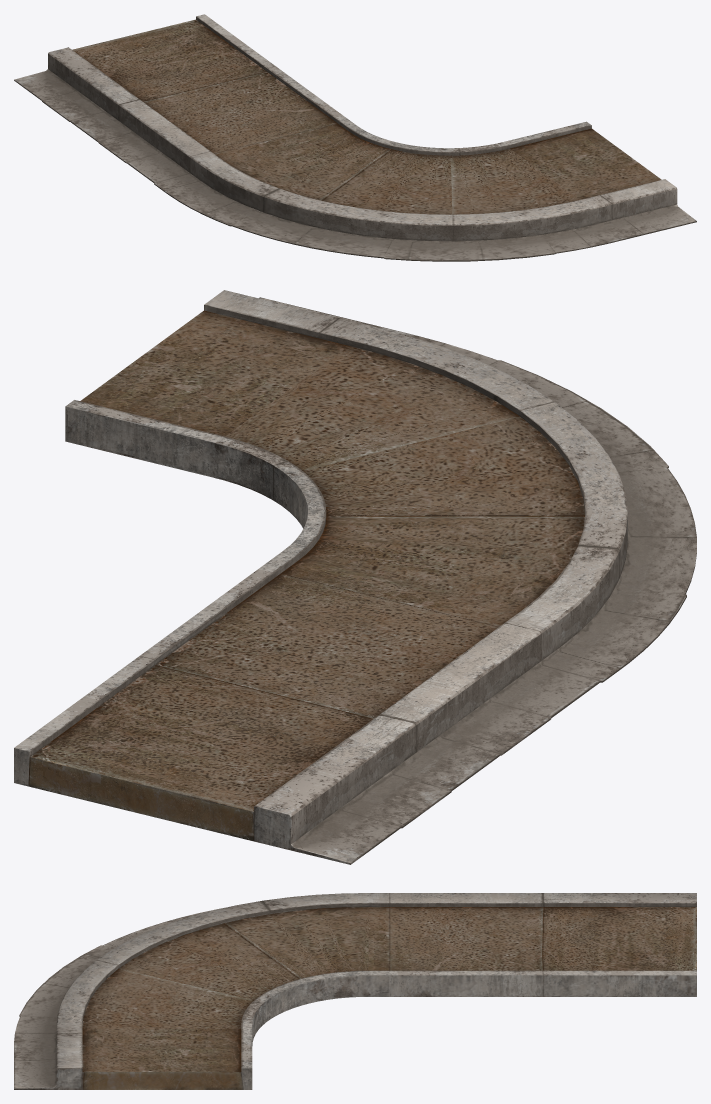
Rendered from SM_Sidewalk_07.fbx.
3 renders of one model, top to bottom at view 1: azimuth 30°, elevation 25°; view 2: azimuth 150°, elevation 25°; view 3: azimuth 270°, elevation 25°, orthographic. The views are drawn at different scales.
Visible parts, largest first — view 1: SM_Sidewalk_07_LOD0; view 2: SM_Sidewalk_07_LOD0; view 3: SM_Sidewalk_07_LOD0.
Boxes of the visible parts, x1,y1,x2,y2 form: SM_Sidewalk_07_LOD0: (14,14,696,261); SM_Sidewalk_07_LOD0: (14,290,696,864); SM_Sidewalk_07_LOD0: (14,893,696,1089).
Size of the model in its own units: 411 by 610 by 21.3.
Materials: 1 (1 with a texture image).
